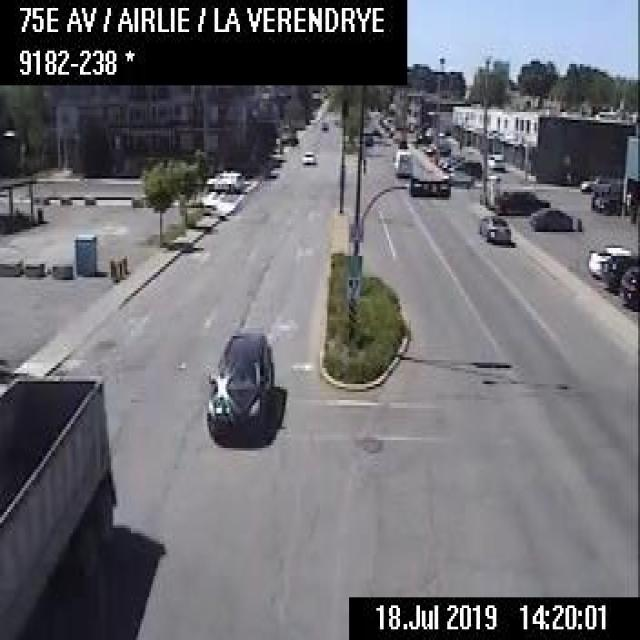construction: (120, 252, 126, 274), (116, 258, 122, 276), (108, 255, 113, 276), (112, 260, 117, 280)
vehicle: (0, 355, 115, 637), (205, 326, 273, 446), (528, 204, 581, 233), (587, 244, 632, 278), (601, 253, 636, 291), (496, 188, 550, 212), (476, 208, 511, 245), (618, 260, 637, 310), (578, 170, 613, 194), (209, 168, 242, 192), (390, 147, 413, 176), (451, 157, 481, 177), (486, 148, 505, 170), (423, 140, 448, 156), (300, 147, 316, 165)
